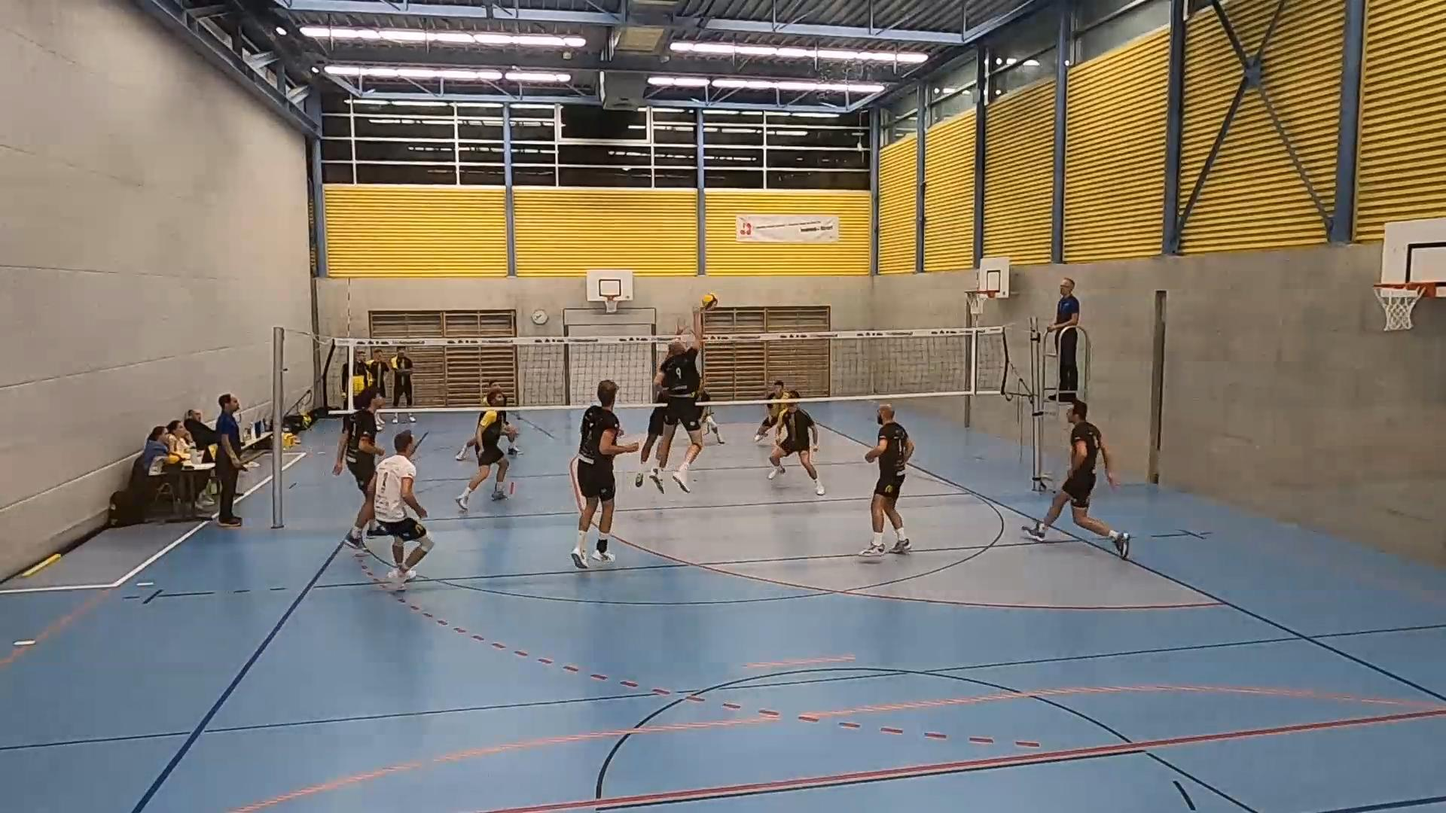Attack: (648, 319, 706, 487)
Player: (1023, 400, 1130, 557), (571, 380, 638, 568), (373, 431, 432, 583), (860, 403, 914, 556), (334, 391, 384, 547), (456, 387, 508, 511), (768, 391, 825, 495), (635, 391, 667, 491), (755, 379, 785, 443), (697, 387, 725, 444), (499, 411, 520, 455)
ball: (701, 296, 720, 307)
